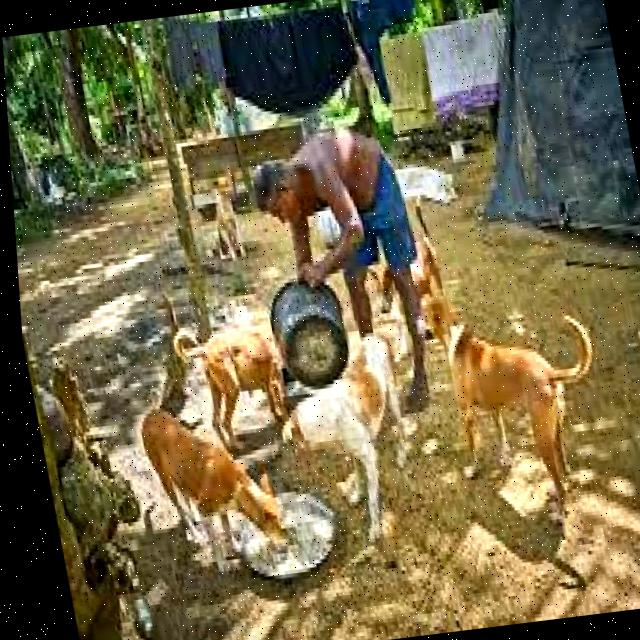civilian: (230, 116, 446, 424)
dog: (397, 278, 628, 504), (118, 384, 307, 588), (259, 338, 437, 540), (155, 304, 311, 451), (359, 242, 474, 324), (199, 170, 257, 266)
